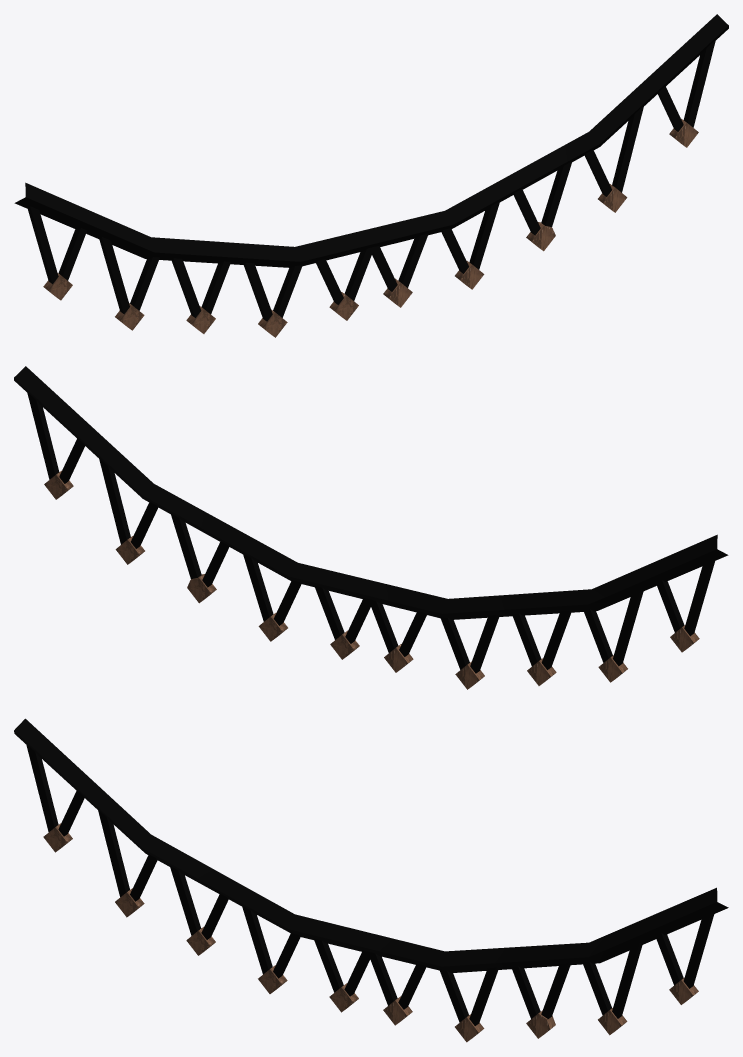
Rendered from entity162162.gltf.
The picture shows the model from 3 angles, top to bottom: view 1: azimuth 30°, elevation 25°; view 2: azimuth 150°, elevation 25°; view 3: azimuth 330°, elevation 25°; orthographic projection.
Parts seen in each view (by area): view 1: node_Fence_01_Railing; view 2: node_Fence_01_Railing; view 3: node_Fence_01_Railing.
Boxes of the visible parts, x1,y1,x2,y2 form: node_Fence_01_Railing: [14, 14, 728, 337]; node_Fence_01_Railing: [14, 366, 728, 689]; node_Fence_01_Railing: [14, 718, 728, 1042].
Size of what is drawn, in the model's own units: 2.45 by 0.7009 by 0.0697.
